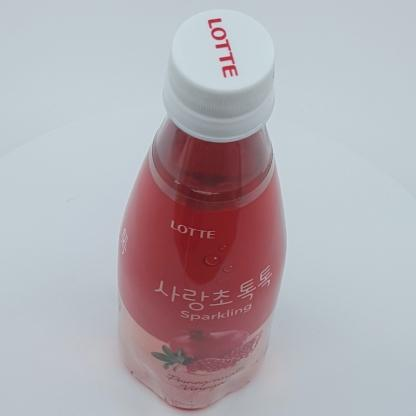-----------330ML: (117, 9, 287, 409)
